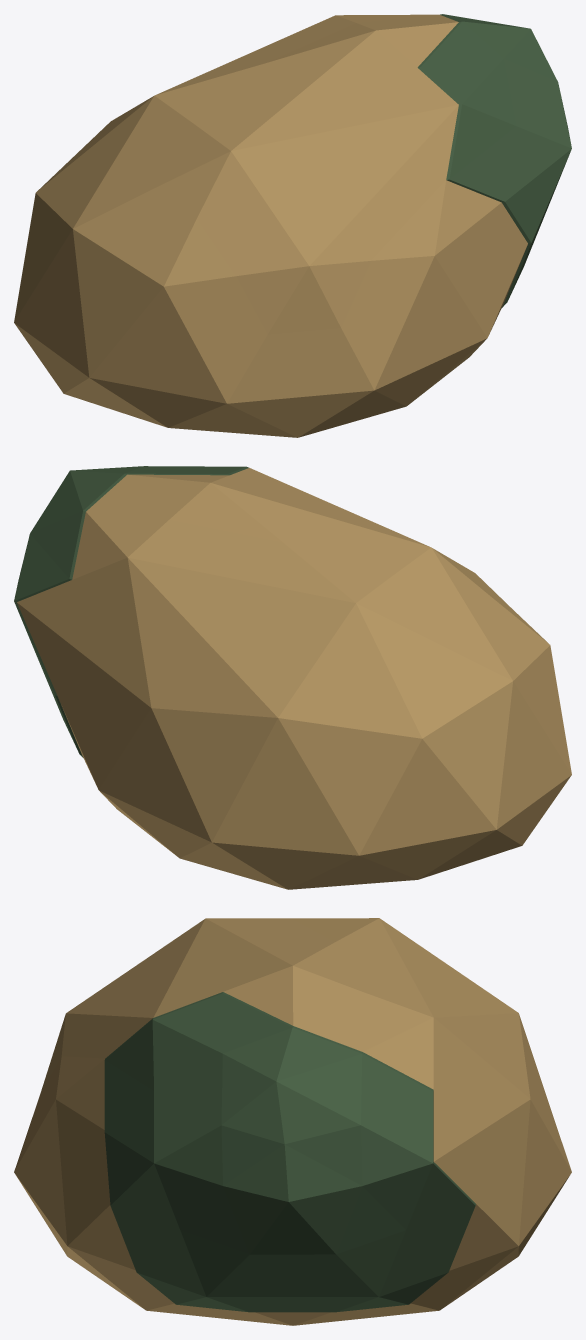
File: MossStoneE.fbx
3 views of the same model, one above another, from view 1: azimuth 30°, elevation 25°; view 2: azimuth 150°, elevation 25°; view 3: azimuth 270°, elevation 25° (orthographic). The views are drawn at different scales.
Visible parts, largest first — view 1: MossStoneE; view 2: MossStoneE; view 3: MossStoneE.
Part boxes in pixels (x1,y1,x2,y2): MossStoneE: (14,14,571,437); MossStoneE: (14,466,571,889); MossStoneE: (14,918,571,1325).
Bounding box in the file's own units: 1091 × 595 × 913.
